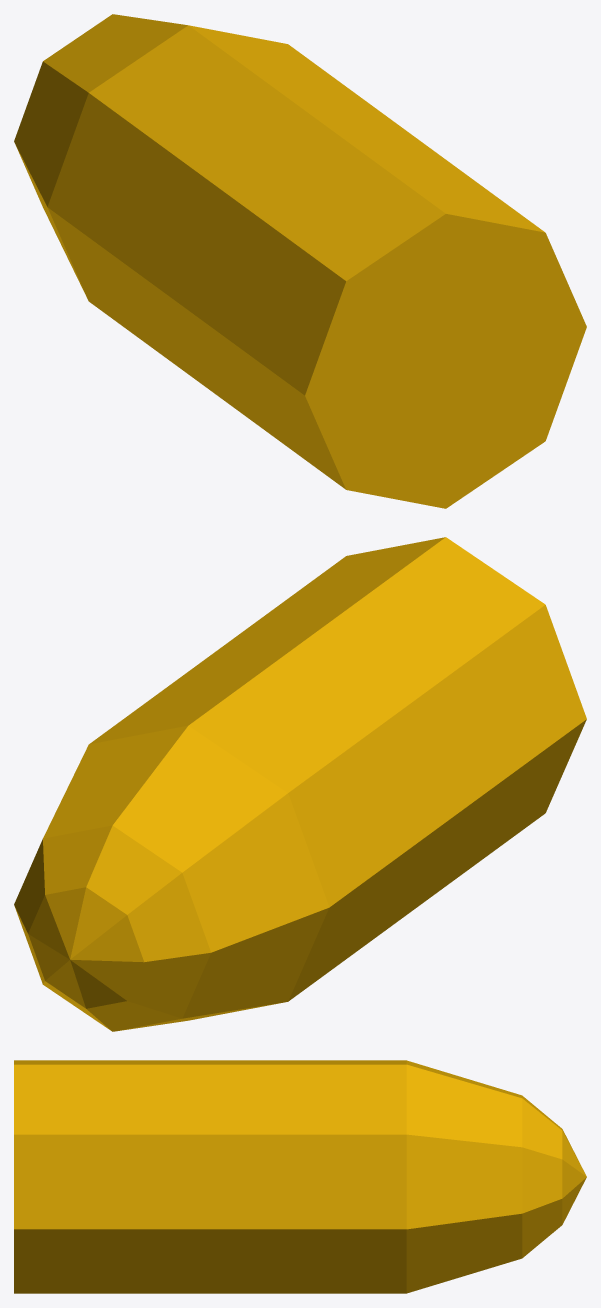
Rendered from bullet.fbx.
3 views of the same model, one above another, from view 1: azimuth 30°, elevation 25°; view 2: azimuth 150°, elevation 25°; view 3: azimuth 270°, elevation 25° (orthographic). The views are drawn at different scales.
Parts seen in each view (by area): view 1: Circle; view 2: Circle; view 3: Circle.
Part boxes in pixels (box(x1,y1,x2,y2)): Circle: box(14, 14, 586, 508); Circle: box(14, 537, 586, 1031); Circle: box(14, 1060, 586, 1293).
Bounding box in the file's own units: 200 × 200 × 462.
